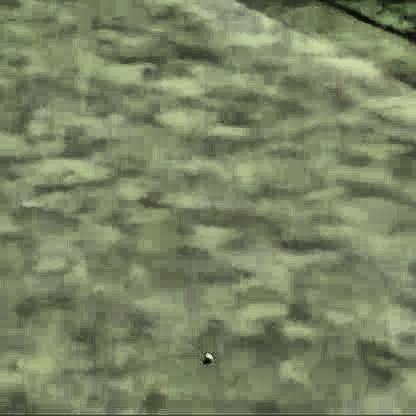golfball: (202, 350, 212, 360)
